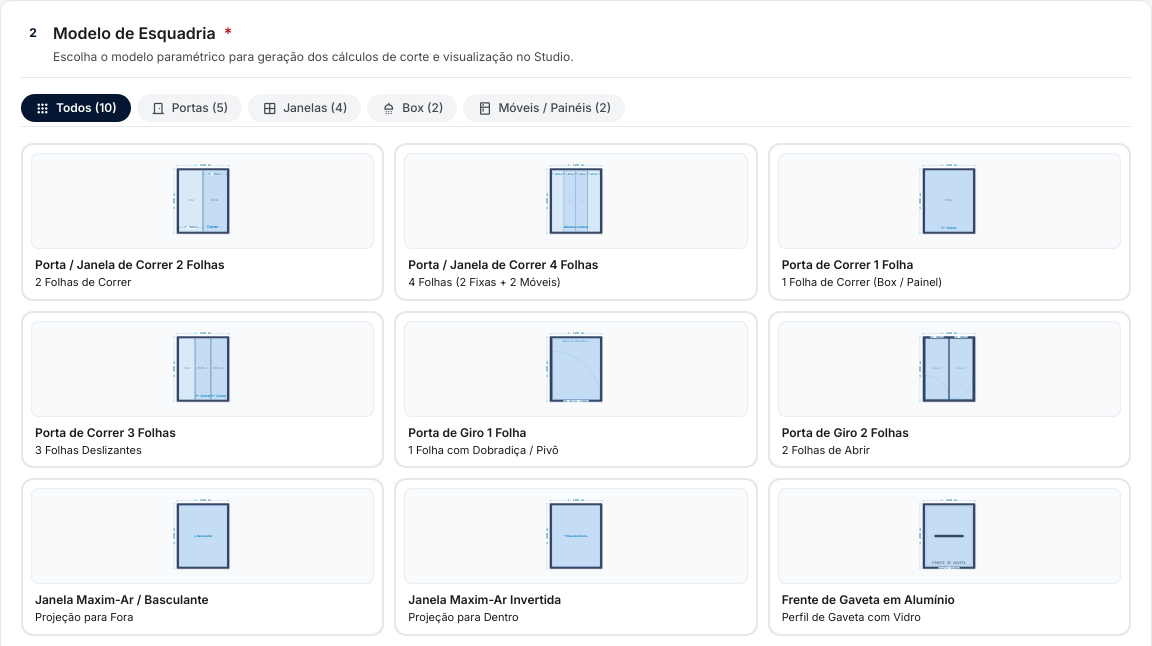
Test: TemplateSelector (Seletor de Modelos de Esquadria) › deve filtrar os modelos exibidos ao clicar na aba de categoria
What coordinates should you click on to do the following:
click the button "Móveis / Painéis (2)"
I would click on:
 (544, 108)
Its box is [463,94,625,122].
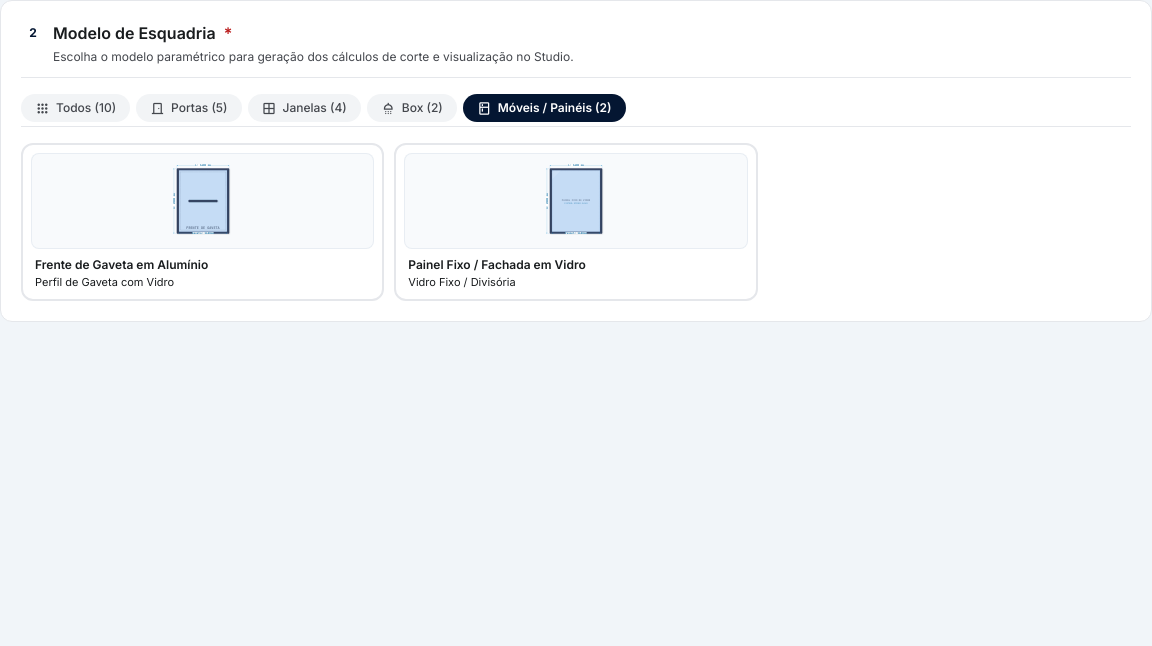
expect the button with aria-label "Selecionar modelo Painel Fixo / Fachada em Vidro" is shown: met, box [394,143,758,300]
expect the button with aria-label "Selecionar modelo Frente de Gaveta em Alumínio" is shown: met, box [21,143,384,300]
What coordinates should you click on to do the following:
click the button "Todos (10)"
I would click on:
 (76, 108)
Its box is [21,94,130,122].
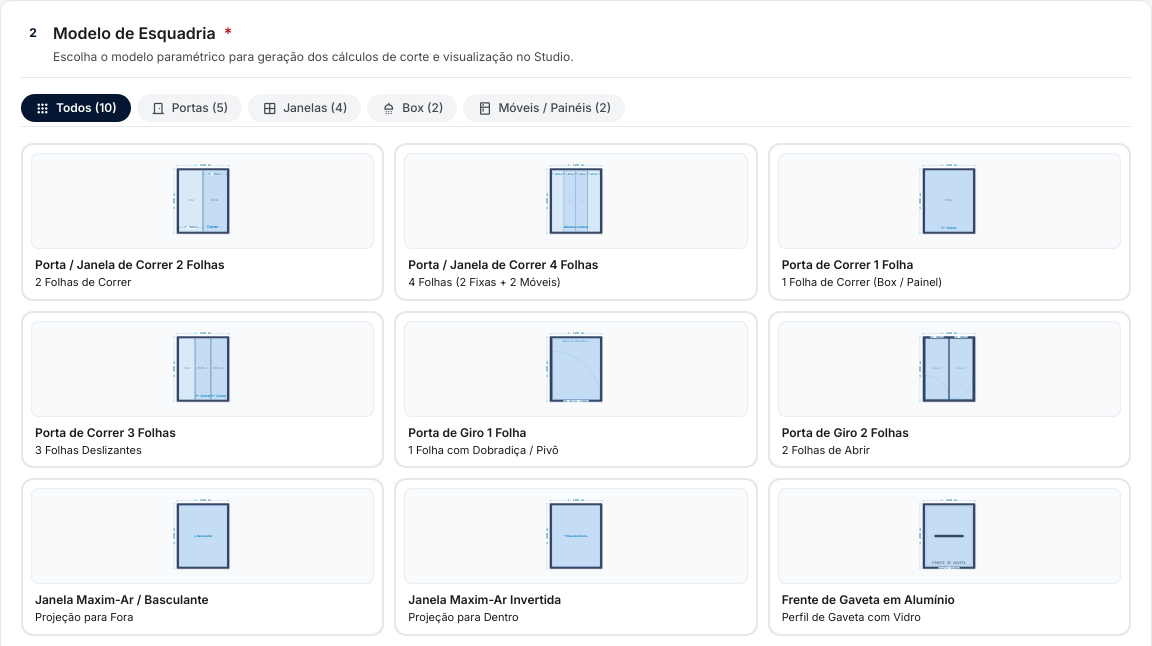
expect the button with aria-label "Selecionar modelo Porta / Janela de Correr 2 Folhas" is shown: met, box [21,143,384,300]
